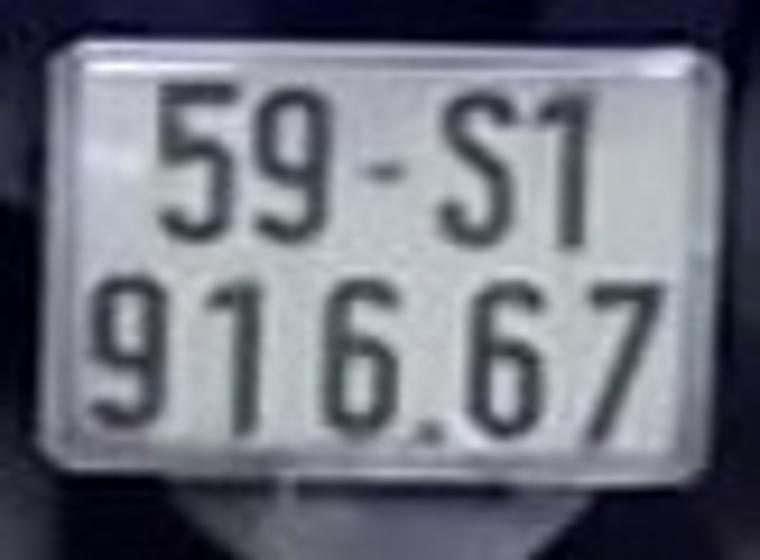-: (368, 161, 400, 179)
.: (417, 421, 443, 440)
1: (209, 276, 258, 436), (539, 91, 581, 247)
5: (155, 82, 233, 237)
6: (468, 279, 543, 432), (322, 278, 395, 434)
7: (589, 279, 664, 437)
9: (94, 271, 165, 431), (255, 85, 326, 244)
S: (440, 89, 512, 246)
